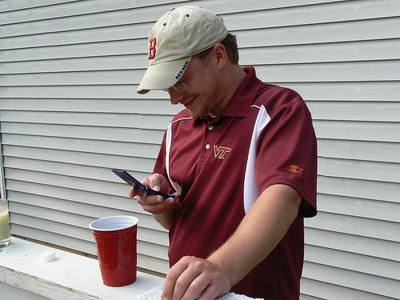person: (130, 6, 318, 300)
